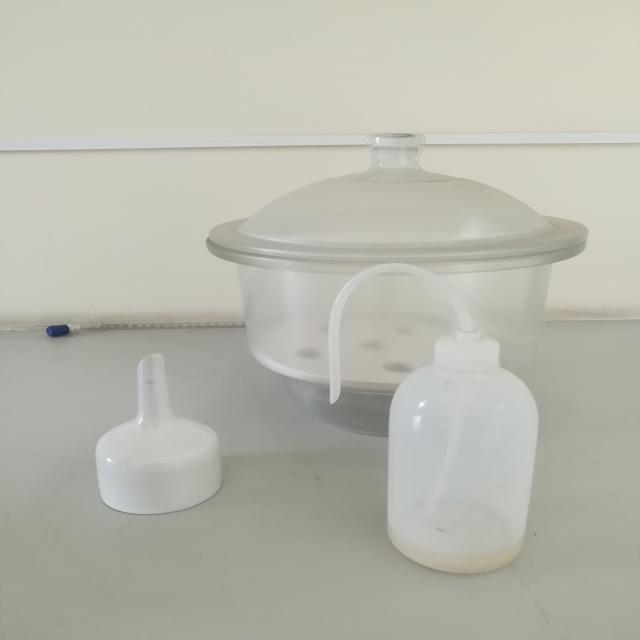Buchner_Funnel: (80, 318, 242, 533)
Wash_Bottle: (302, 244, 584, 595)
